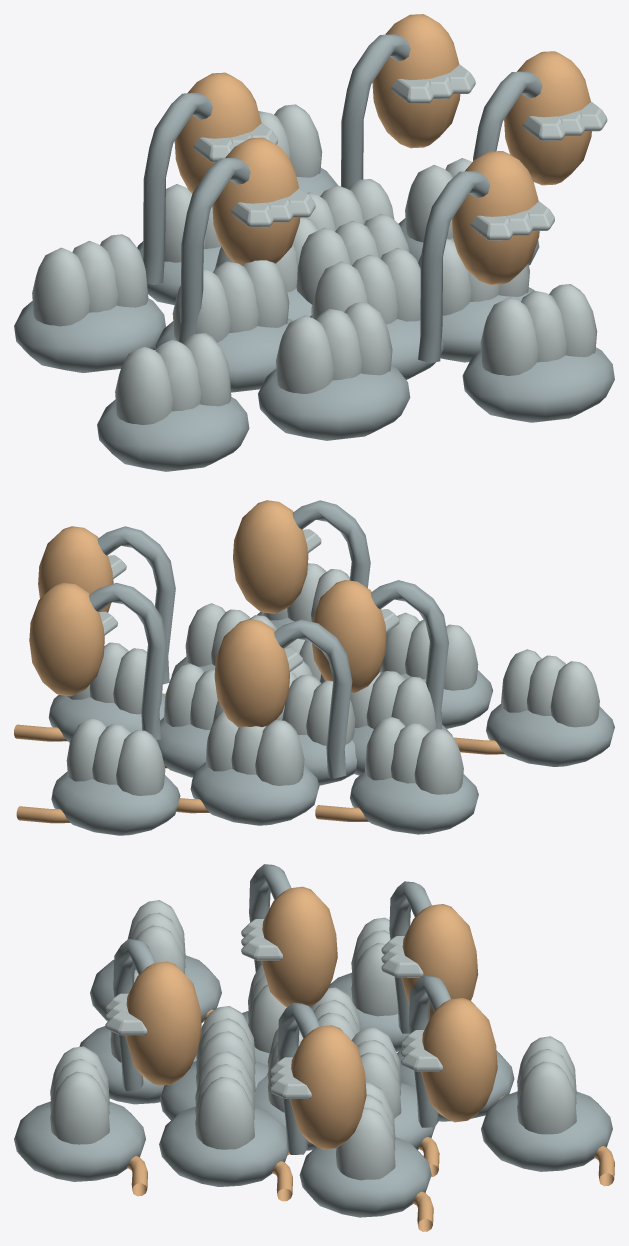
Rendered from bio_acid_mat_18_far.glb.
The picture shows the model from 3 angles, top to bottom: view 1: azimuth 30°, elevation 25°; view 2: azimuth 150°, elevation 25°; view 3: azimuth 270°, elevation 25°; orthographic projection. The views are drawn at different scales.
Visible parts, largest first — view 1: Reaction vesicle.030, Reaction vesicle.036, Reaction vesicle.021, Reaction vesicle.027, Microbial cushion.007, Microbial cushion.010, Microbial cushion.012, Microbial cushion.009, Pendant spore capsule.002, Pendant spore capsule.003, Pendant spore capsule, Pendant spore capsule.004 (+25 smaller); view 2: Pendant spore capsule.002, Pendant spore capsule.003, Pendant spore capsule.001, Reaction vesicle.027, Reaction vesicle.033, Reaction vesicle.036, Microbial cushion.011, Microbial cushion.006, Microbial cushion.012, Microbial cushion.009, Pendant spore capsule.004, Reaction vesicle.018 (+23 smaller); view 3: Pendant spore capsule.003, Pendant spore capsule, Pendant spore capsule.002, Pendant spore capsule.004, Microbial cushion.010, Microbial cushion.011, Microbial cushion.005, Microbial cushion.008, Pendant spore capsule.001, Reaction vesicle.030, Reaction vesicle.033, Reaction vesicle.015 (+30 smaller).
Boxes of the visible parts, x1,y1,x2,y2 form: Reaction vesicle.030: [480, 284, 597, 375]; Reaction vesicle.036: [115, 333, 231, 424]; Reaction vesicle.021: [276, 302, 392, 393]; Reaction vesicle.027: [32, 234, 148, 326]; Microbial cushion.007: [258, 365, 410, 440]; Microbial cushion.010: [462, 347, 614, 422]; Microbial cushion.012: [97, 397, 249, 471]; Microbial cushion.009: [14, 298, 165, 372]; Pendant spore capsule.002: [452, 151, 539, 284]; Pendant spore capsule.003: [372, 14, 460, 148]; Pendant spore capsule: [504, 51, 591, 185]; Pendant spore capsule.004: [212, 137, 300, 264]; Pendant spore capsule.002: [233, 500, 308, 613]; Pendant spore capsule.003: [29, 582, 104, 696]; Pendant spore capsule.001: [214, 619, 289, 727]; Reaction vesicle.027: [365, 716, 463, 794]; Reaction vesicle.033: [66, 718, 165, 795]; Reaction vesicle.036: [501, 649, 599, 727]; Microbial cushion.011: [51, 771, 180, 835]; Microbial cushion.006: [190, 762, 319, 825]; Microbial cushion.012: [486, 703, 614, 766]; Microbial cushion.009: [350, 771, 478, 834]; Pendant spore capsule.004: [312, 580, 386, 693]; Reaction vesicle.018: [206, 711, 304, 785]; Pendant spore capsule.003: [421, 998, 497, 1122]; Pendant spore capsule: [289, 1025, 366, 1149]; Pendant spore capsule.002: [125, 961, 201, 1085]; Pendant spore capsule.004: [261, 886, 337, 1007]; Microbial cushion.010: [14, 1101, 145, 1181]; Microbial cushion.011: [481, 1091, 612, 1171]; Microbial cushion.005: [159, 1106, 288, 1186]; Microbial cushion.008: [299, 1137, 431, 1217]; Pendant spore capsule.001: [401, 904, 478, 1018]; Reaction vesicle.030: [50, 1046, 109, 1144]; Reaction vesicle.033: [517, 1036, 576, 1134]; Reaction vesicle.015: [195, 1051, 254, 1149].
Size of the model in its own units: 2.04 by 0.7658 by 2.
